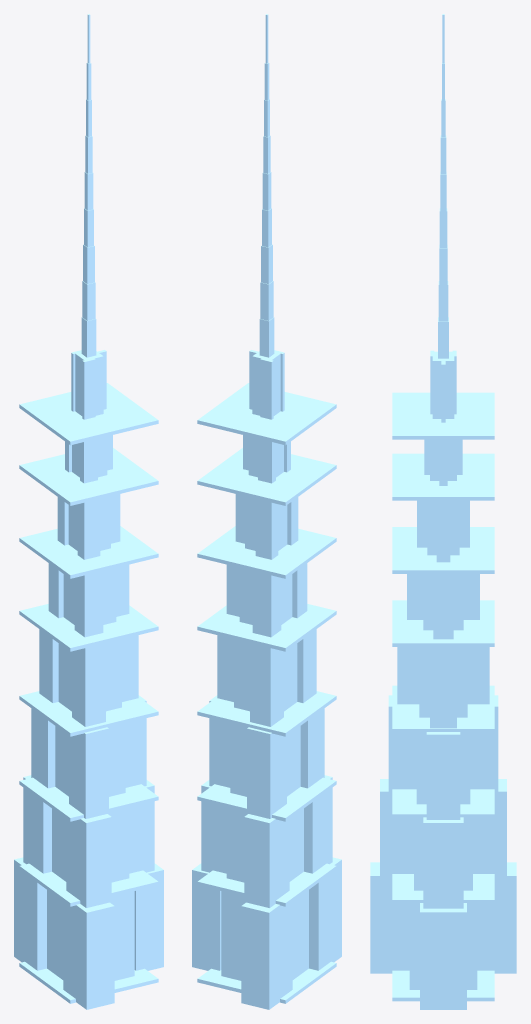
File: burj-khalifa.glb
The picture shows the model from 3 angles, left to right: view 1: azimuth 30°, elevation 25°; view 2: azimuth 150°, elevation 25°; view 3: azimuth 270°, elevation 25°; orthographic projection.
Parts seen in each view (by area): view 1: burj-khalifa; view 2: burj-khalifa; view 3: burj-khalifa.
Boxes of the visible parts, x1=… form: burj-khalifa: x1=14, y1=14, x2=163, y2=1009; burj-khalifa: x1=192, y1=14, x2=341, y2=1009; burj-khalifa: x1=370, y1=14, x2=516, y2=1009.
Size of the model in its own units: 0.925 by 7.91 by 1.09.
